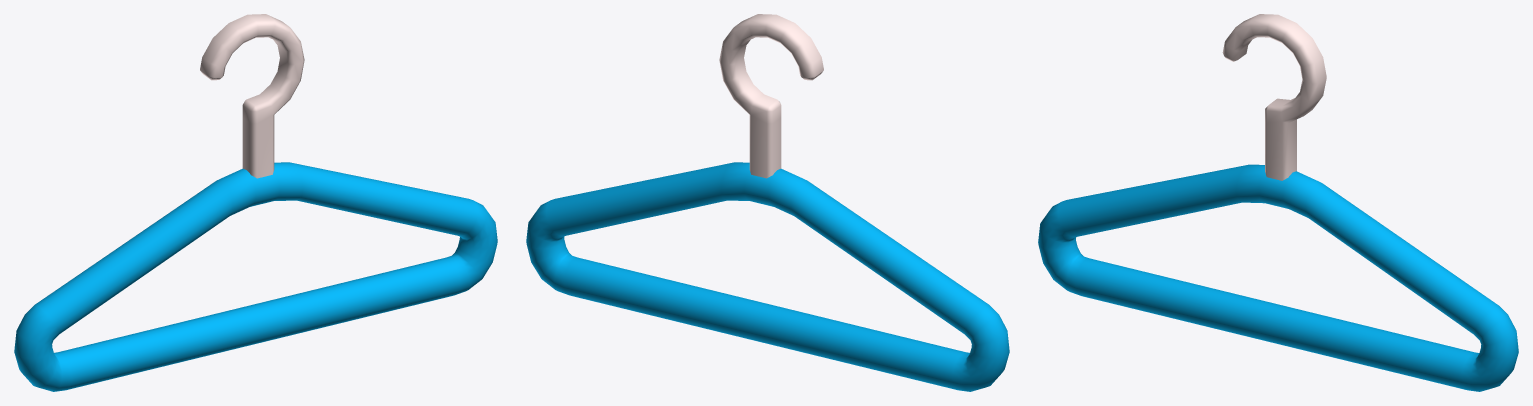
Rendered from Public_19_Clothes_hanger_1.glb.
The picture shows the model from 3 angles, left to right: view 1: azimuth 30°, elevation 25°; view 2: azimuth 150°, elevation 25°; view 3: azimuth 330°, elevation 25°; orthographic projection.
Visible parts, largest first — view 1: Public_19_Clothes_hanger_1; view 2: Public_19_Clothes_hanger_1; view 3: Public_19_Clothes_hanger_1.
Part boxes in pixels (x1=…): Public_19_Clothes_hanger_1: x1=14, y1=14, x2=497, y2=391; Public_19_Clothes_hanger_1: x1=526, y1=14, x2=1009, y2=391; Public_19_Clothes_hanger_1: x1=1038, y1=14, x2=1518, y2=391.
Size of the model in its own units: 0.6304 by 0.409 by 0.0446.
1 material, 1 textured.
